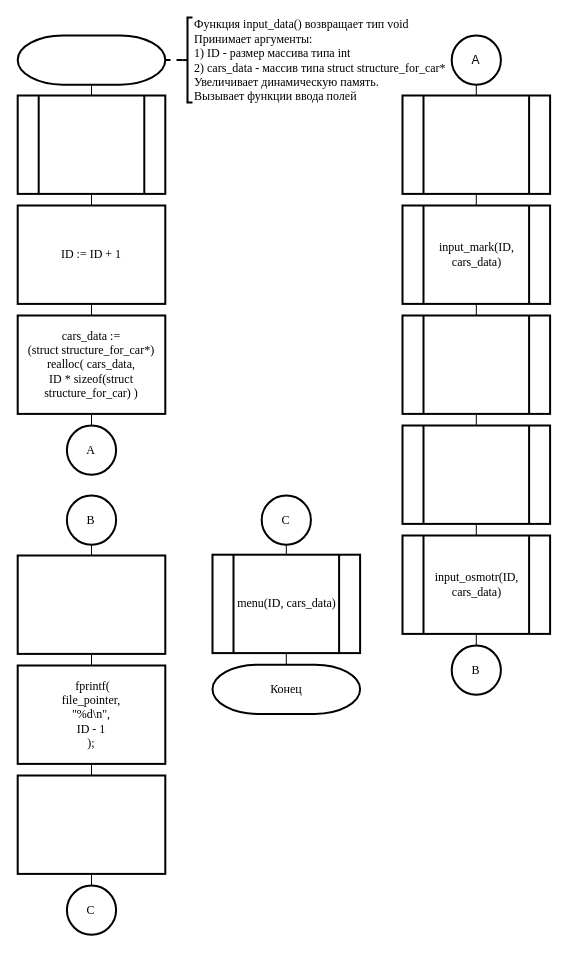
Image size: 569x954. Some labels were removed from this diagram. Here are the shapes that lost their labels. From the top down, the centre of each, then its label:
the point at 91,59: void input_data()
the point at 91,144: clearConsole()
the point at 476,144: input_number(ID, cars_data)
the point at 476,364: input_surname(ID, cars_data)
the point at 476,474: getch()
the point at 91,604: FILE* file_pointer = fopen("indices.txt", "at");
the point at 91,824: fclose(file_pointer);
